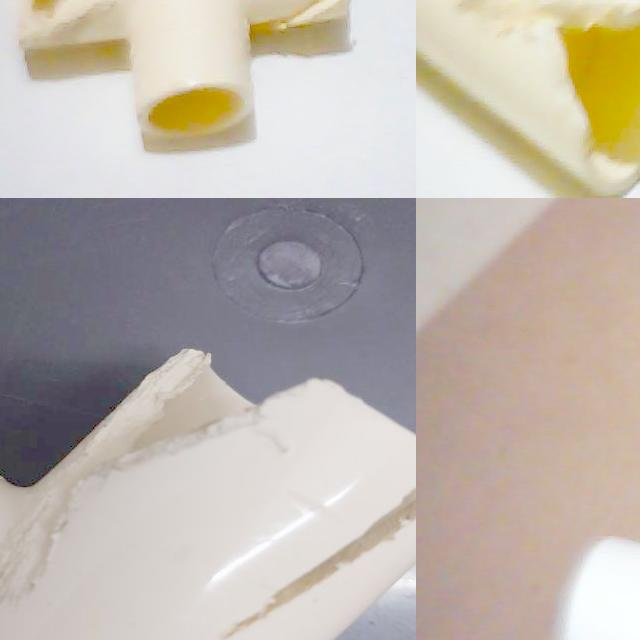Defective: (464, 0, 640, 175), (147, 343, 327, 450), (0, 512, 98, 617), (230, 564, 362, 633), (313, 499, 416, 584), (78, 415, 176, 494), (553, 80, 627, 170), (502, 6, 637, 54), (7, 0, 124, 52), (263, 0, 372, 49)
T Joint: (18, 0, 351, 136)
